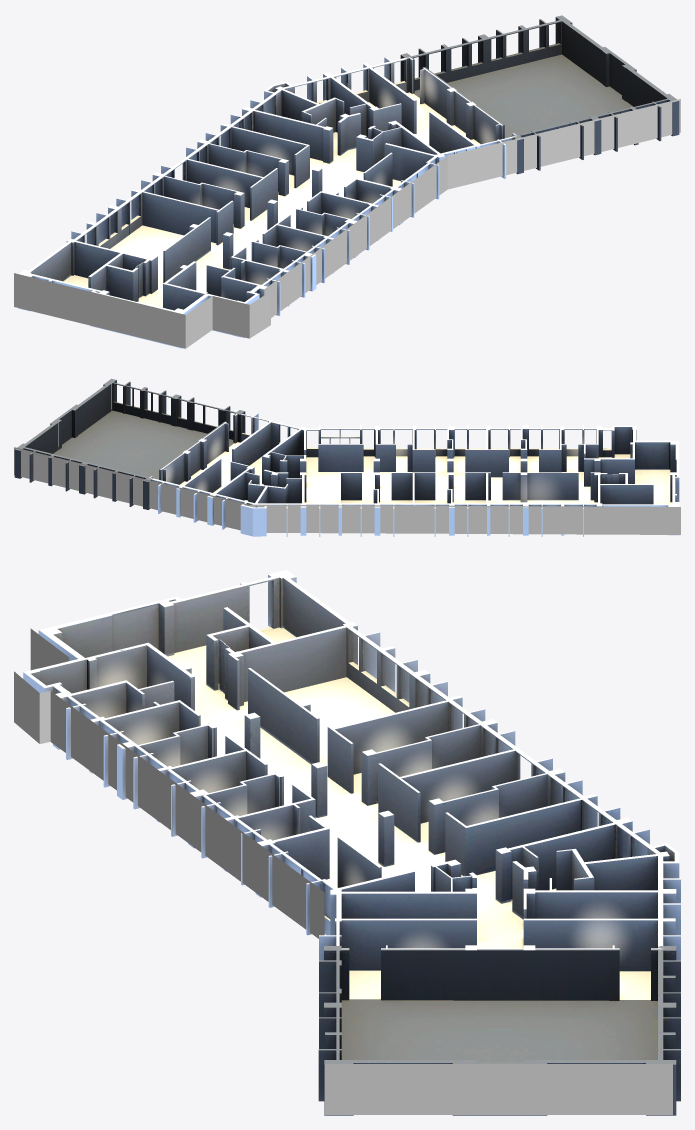
The picture shows the model from 3 angles, top to bottom: view 1: azimuth 30°, elevation 25°; view 2: azimuth 150°, elevation 25°; view 3: azimuth 270°, elevation 25°; orthographic projection. The views are drawn at different scales.
Parts seen in each view (by area): view 1: hd_4floor_wlm_1, hd_4_zoulang_2, hd_4floor_room01_3, hd_4floor_room08_10, hd_4floor_room02_4, hd_4floor_room17_19, hd_4floor_room03_5, hd_4floor_room16_18, hd_4floor_room04_6, hd_4floor_room05_7, hd_4floor_room06_8, hd_4floor_room09_11 (+8 smaller); view 2: hd_4floor_wlm_1, hd_4_zoulang_2, hd_4floor_room01_3, hd_4floor_room08_10, hd_4floor_room02_4, hd_4floor_room17_19, hd_4floor_room03_5, hd_4floor_room18_20, hd_4floor_room04_6, hd_4floor_room09_11, hd_4floor_room06_8, hd_4floor_room16_18 (+8 smaller); view 3: hd_4_zoulang_2, hd_4floor_room01_3, hd_4floor_wlm_1, hd_4floor_room08_10, hd_4floor_room02_4, hd_4floor_room17_19, hd_4floor_room09_11, hd_4floor_room05_7, hd_4floor_room03_5, hd_4floor_room16_18, hd_4floor_room04_6, hd_4floor_room07_9 (+8 smaller).
Boxes of the visible parts, x1=… form: hd_4floor_wlm_1: x1=14, y1=99, x2=680, y2=348; hd_4_zoulang_2: x1=18, y1=103, x2=475, y2=348; hd_4floor_room01_3: x1=400, y1=15, x2=679, y2=174; hd_4floor_room08_10: x1=66, y1=189, x2=218, y2=293; hd_4floor_room02_4: x1=367, y1=57, x2=516, y2=178; hd_4floor_room17_19: x1=250, y1=75, x2=372, y2=156; hd_4floor_room03_5: x1=323, y1=63, x2=415, y2=133; hd_4floor_room16_18: x1=356, y1=143, x2=439, y2=217; hd_4floor_room04_6: x1=197, y1=124, x2=307, y2=192; hd_4floor_room05_7: x1=184, y1=143, x2=288, y2=200; hd_4floor_room06_8: x1=152, y1=158, x2=263, y2=224; hd_4floor_room09_11: x1=165, y1=261, x2=267, y2=337; hd_4floor_wlm_1: x1=14, y1=447, x2=680, y2=534; hd_4_zoulang_2: x1=221, y1=421, x2=679, y2=536; hd_4floor_room01_3: x1=14, y1=378, x2=245, y2=509; hd_4floor_room08_10: x1=487, y1=472, x2=602, y2=536; hd_4floor_room02_4: x1=149, y1=413, x2=272, y2=513; hd_4floor_room17_19: x1=214, y1=469, x2=303, y2=536; hd_4floor_room03_5: x1=176, y1=458, x2=254, y2=525; hd_4floor_room18_20: x1=262, y1=426, x2=306, y2=483; hd_4floor_room04_6: x1=338, y1=472, x2=380, y2=536; hd_4floor_room09_11: x1=584, y1=425, x2=636, y2=483; hd_4floor_room06_8: x1=413, y1=472, x2=454, y2=536; hd_4floor_room16_18: x1=305, y1=425, x2=376, y2=471; hd_4_zoulang_2: x1=38, y1=570, x2=632, y2=948; hd_4floor_room01_3: x1=318, y1=946, x2=680, y2=1115; hd_4floor_wlm_1: x1=14, y1=628, x2=672, y2=1114; hd_4floor_room08_10: x1=228, y1=622, x2=462, y2=776; hd_4floor_room02_4: x1=319, y1=918, x2=680, y2=999; hd_4floor_room17_19: x1=509, y1=823, x2=680, y2=921; hd_4floor_room09_11: x1=23, y1=644, x2=192, y2=749; hd_4floor_room05_7: x1=400, y1=749, x2=552, y2=854; hd_4floor_room03_5: x1=523, y1=888, x2=680, y2=935; hd_4floor_room16_18: x1=267, y1=828, x2=413, y2=935; hd_4floor_room04_6: x1=436, y1=768, x2=597, y2=860; hd_4floor_room07_9: x1=333, y1=700, x2=485, y2=799.
Size of the model in its own units: 8.03 by 0.4033 by 4.54.
Materials: 20 (19 with a texture image).
